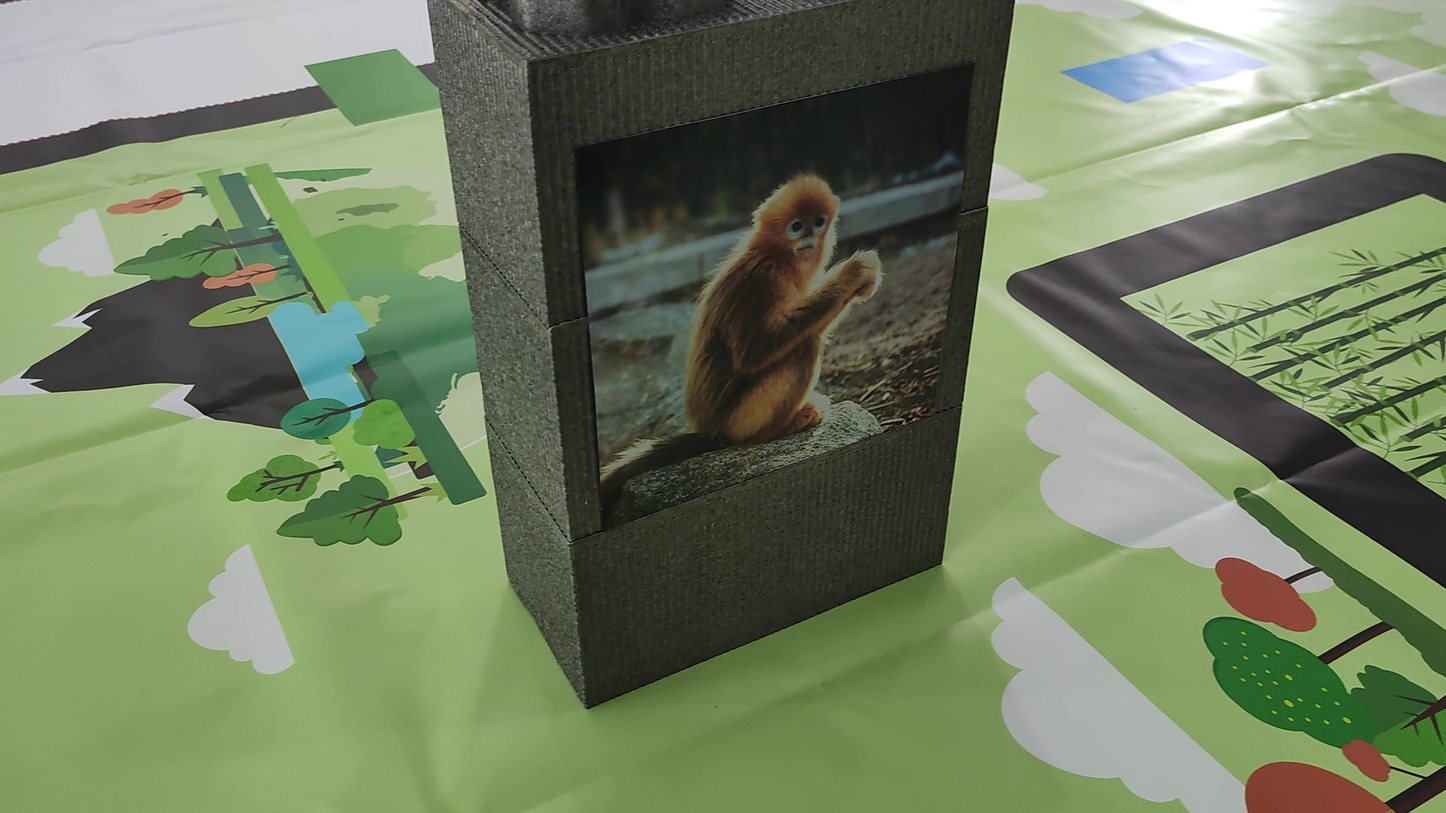monkey: (600, 162, 883, 521)
